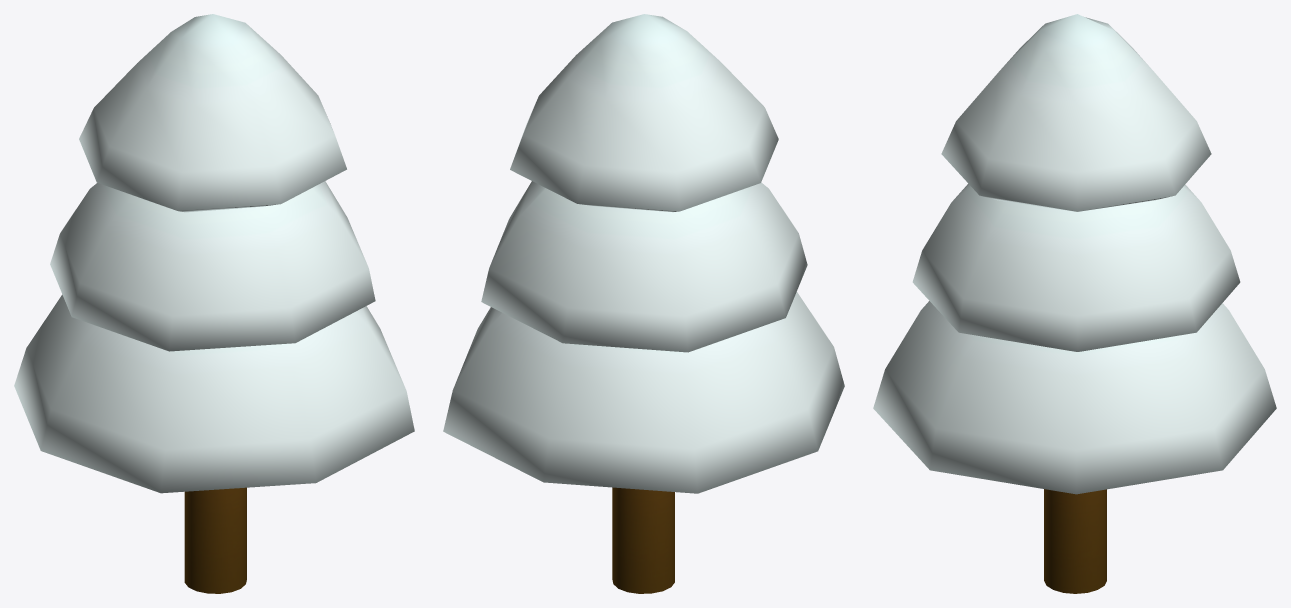
The model's file is Pine_4.fbx.
3 renders of one model, left to right at view 1: azimuth 30°, elevation 25°; view 2: azimuth 150°, elevation 25°; view 3: azimuth 270°, elevation 25°, orthographic.
Parts seen in each view (by area): view 1: Pine_4; view 2: Pine_4; view 3: Pine_4.
Part boxes in pixels (bbox=[...]): Pine_4: bbox=[14, 14, 414, 593]; Pine_4: bbox=[443, 14, 844, 593]; Pine_4: bbox=[873, 14, 1276, 593].
Bounding box in the file's own units: 0.9941 × 1.54 × 0.9941.
